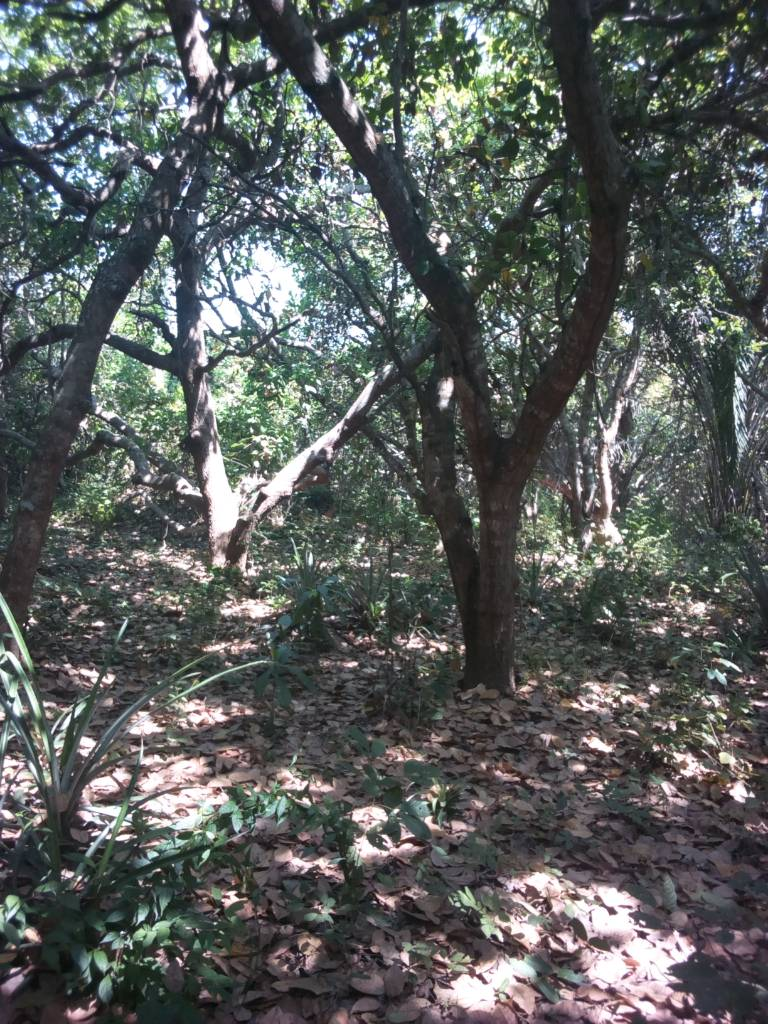Termites: (474, 380, 522, 658), (568, 197, 622, 366)
